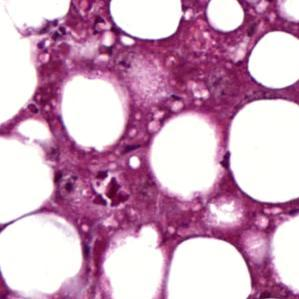steatosis: (155, 108, 224, 196), (54, 75, 128, 152), (252, 32, 299, 86), (203, 0, 246, 33), (17, 116, 58, 146)
